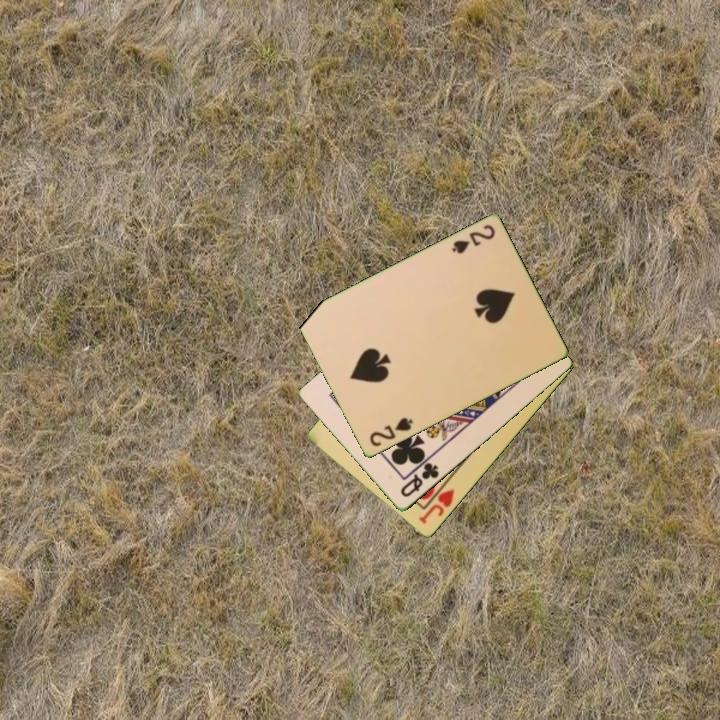2s: (366, 414, 416, 450), (448, 221, 498, 257)
Jh: (415, 486, 458, 527)
Qc: (397, 459, 442, 501)
